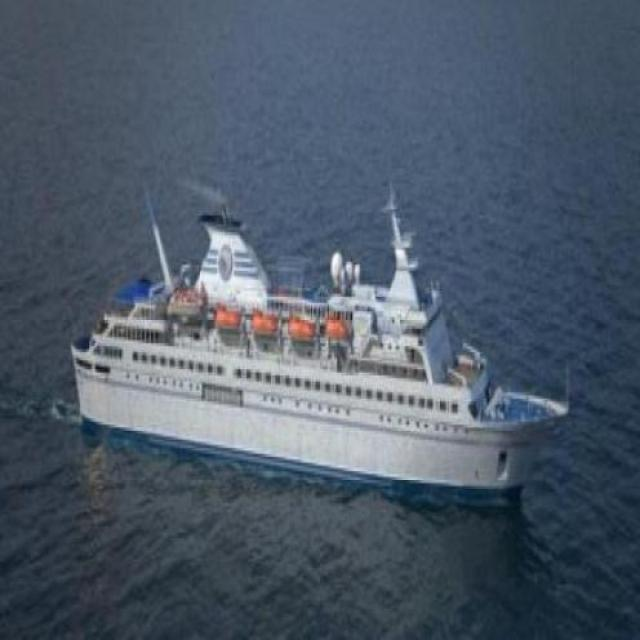boat: (49, 254, 568, 510)
